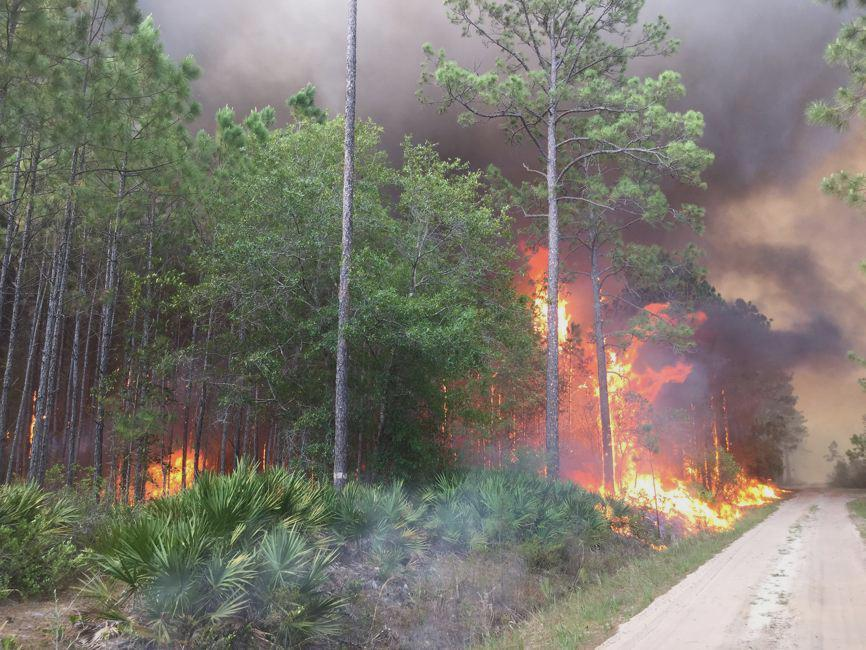Fire: (486, 228, 792, 541), (125, 444, 205, 499)
